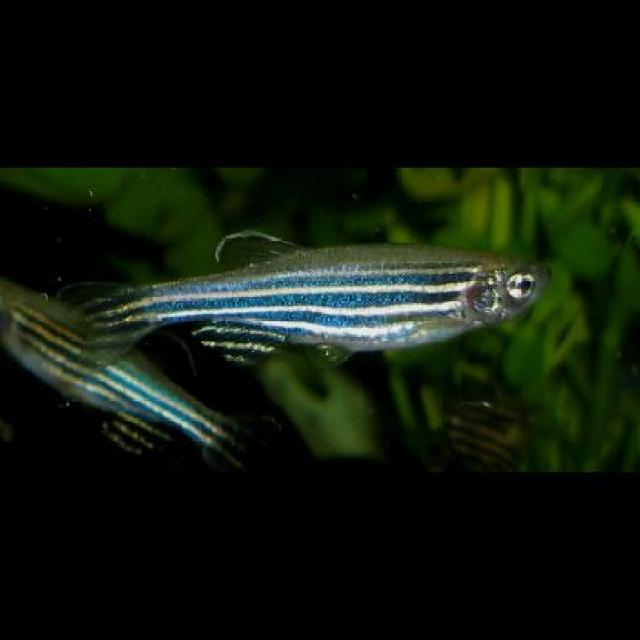ZebraFish: (66, 226, 552, 368)
